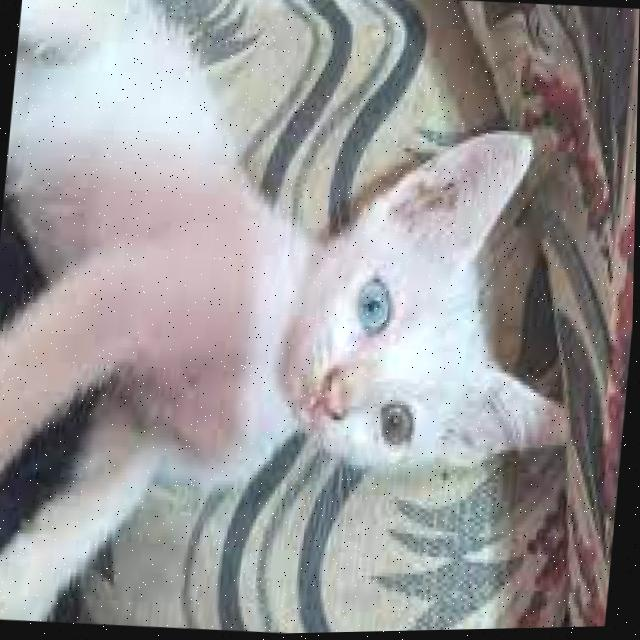Khao Manee: (0, 0, 617, 640)
